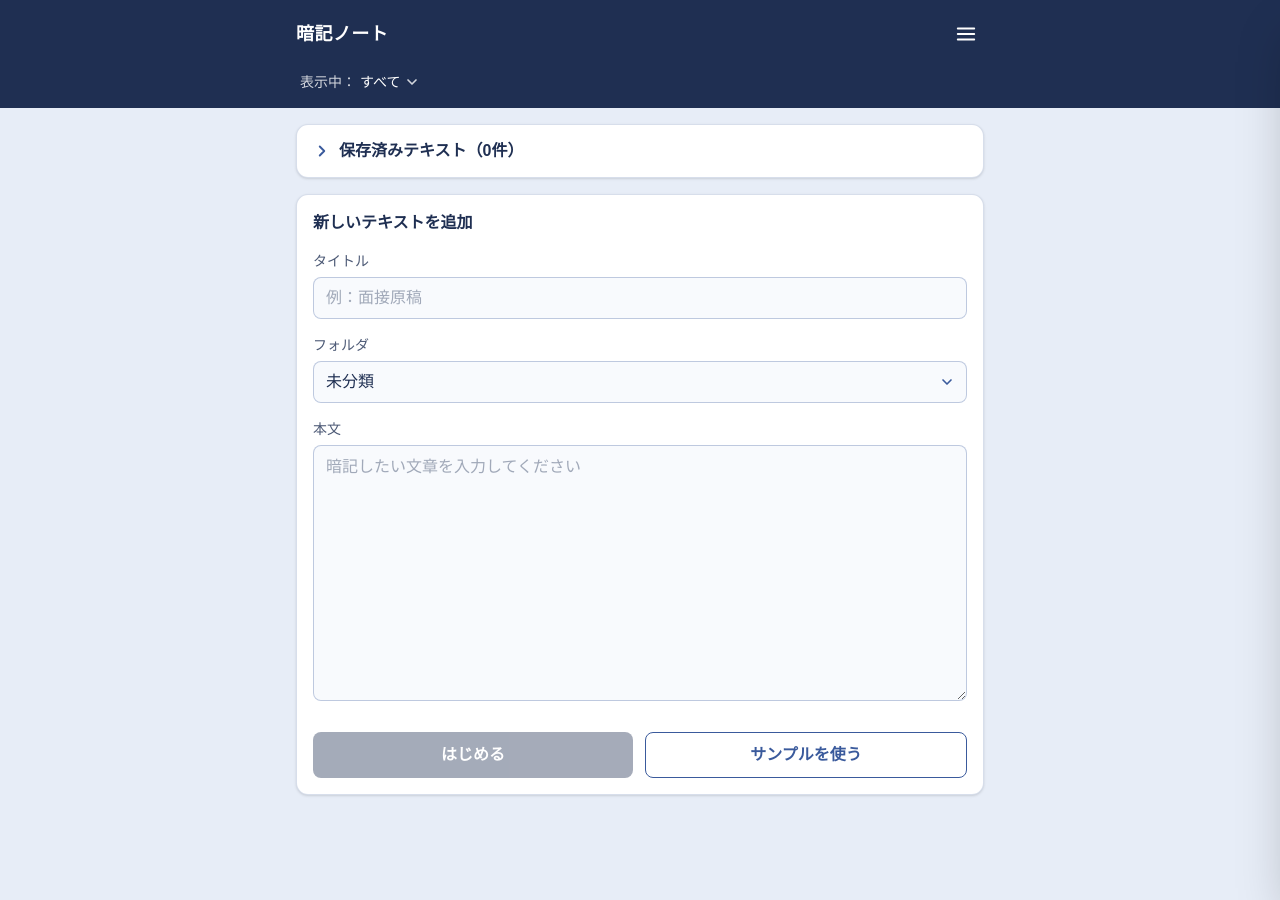
Test case: HomeScreen › サンプルを使うボタンでタイトルと本文が入力される
Click the button "サンプルを使う" at (806, 755), box [645, 732, 967, 778]
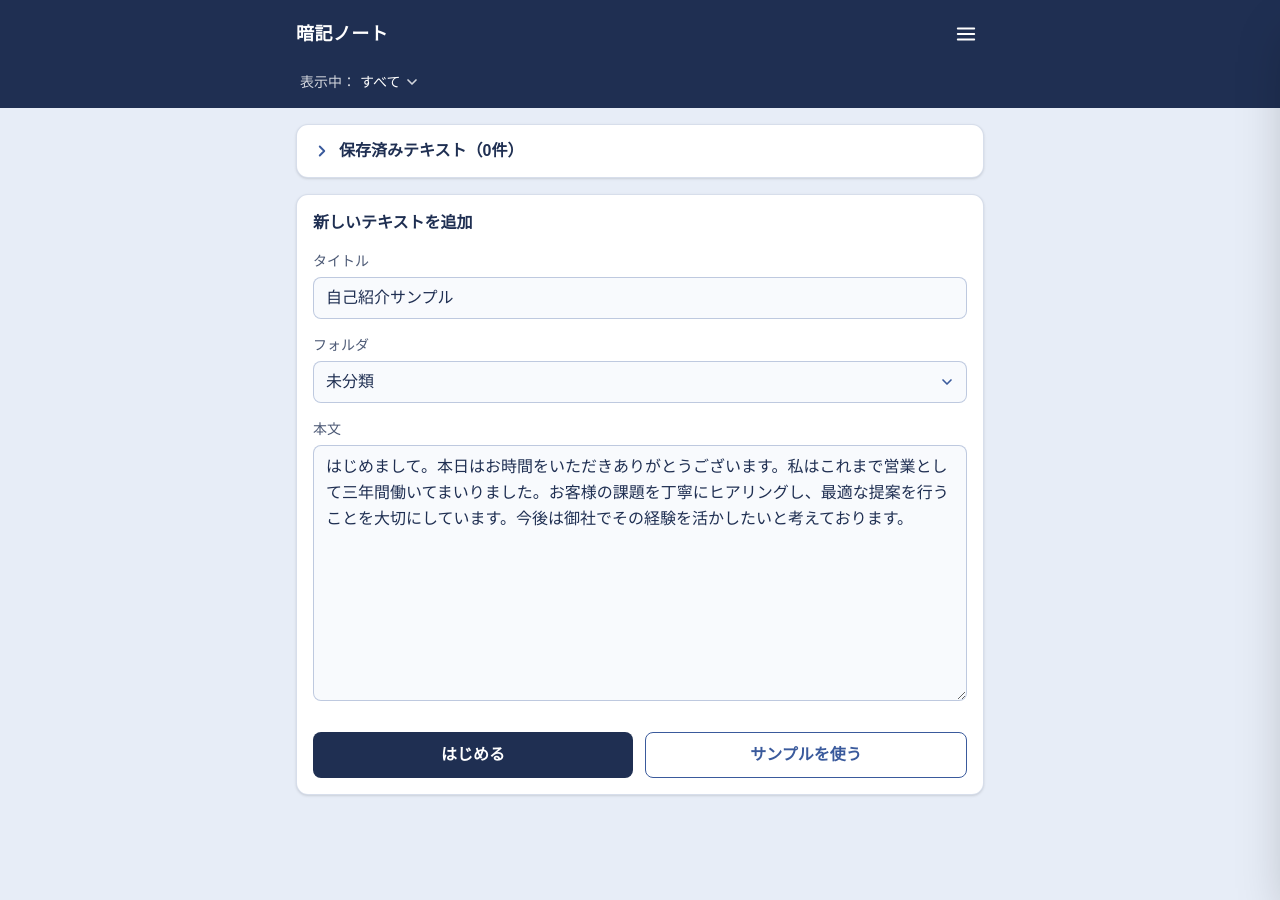
Result: the field labelled "タイトル" holds "自己紹介サンプル" at [313, 277, 967, 319]
